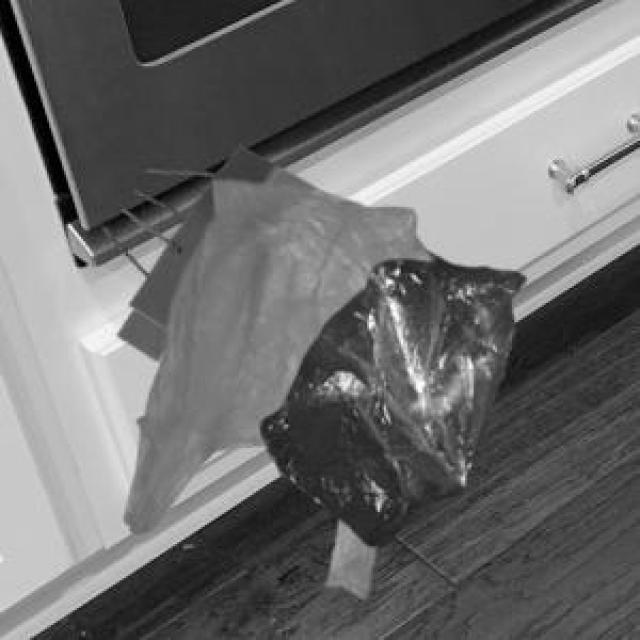paper: (113, 143, 443, 358)
